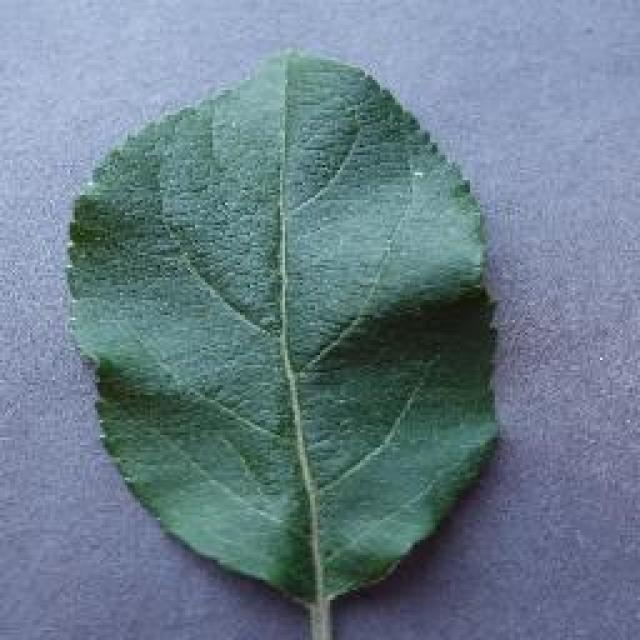apple healthy: (63, 45, 505, 637)
